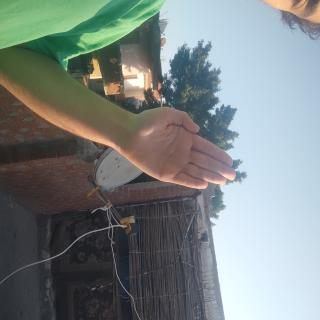SEEN: (79, 108, 148, 267)
